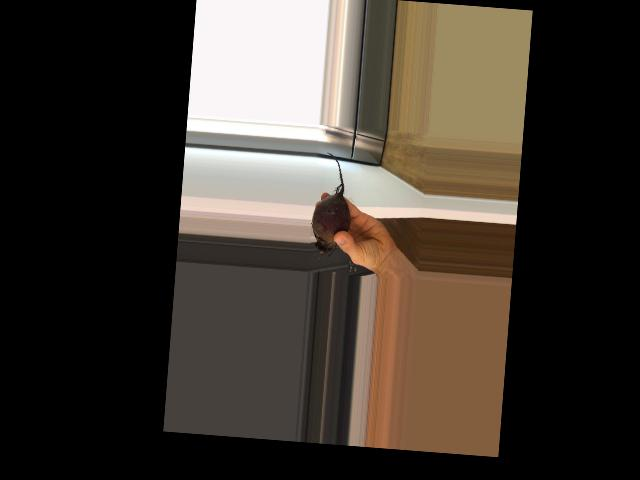beet: (309, 151, 355, 258)
